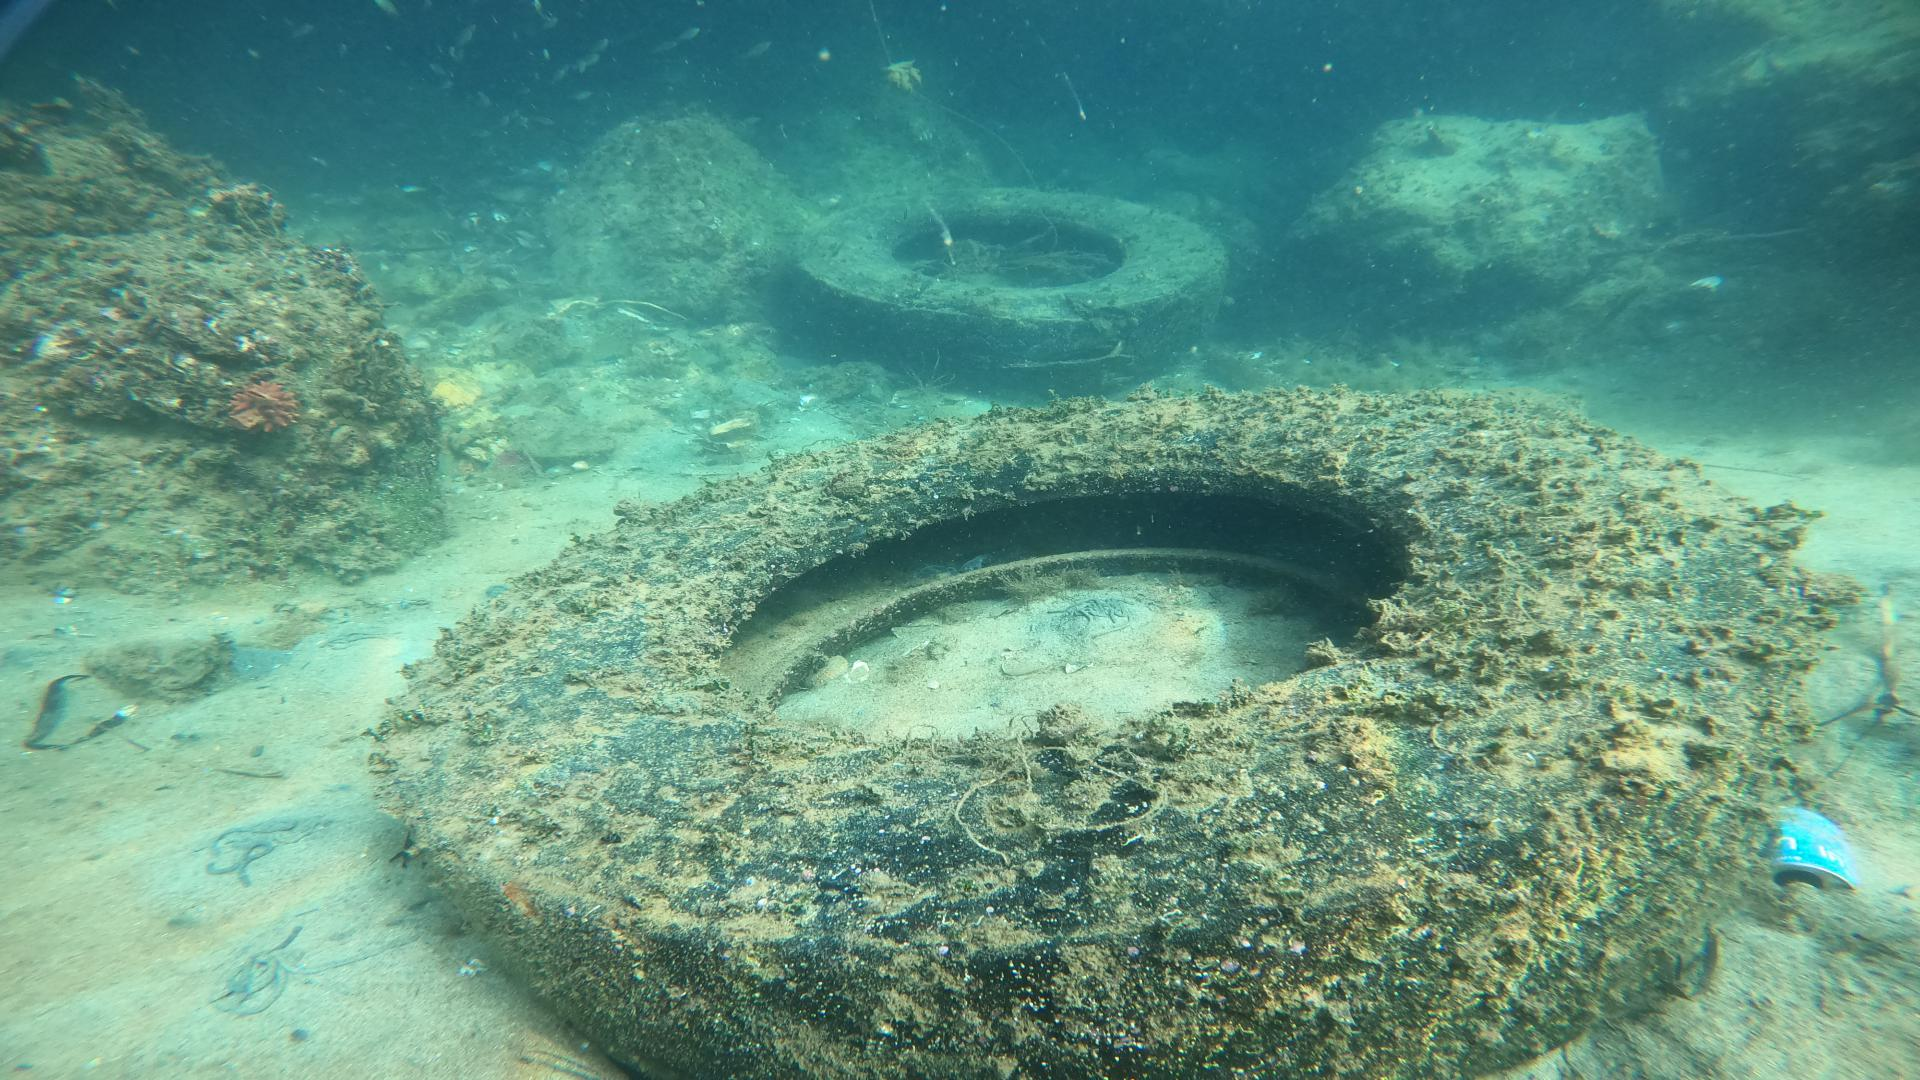tire: (377, 392, 1808, 1080), (787, 185, 1228, 392)
